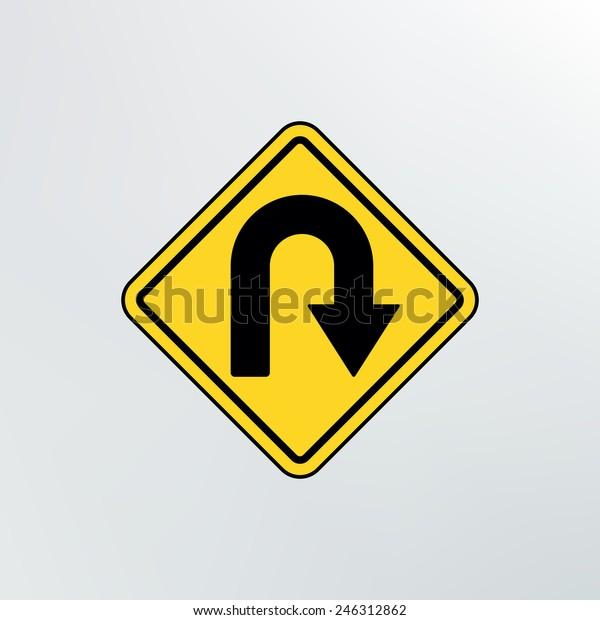Right Hair Pin Bend: (117, 120, 463, 465)
